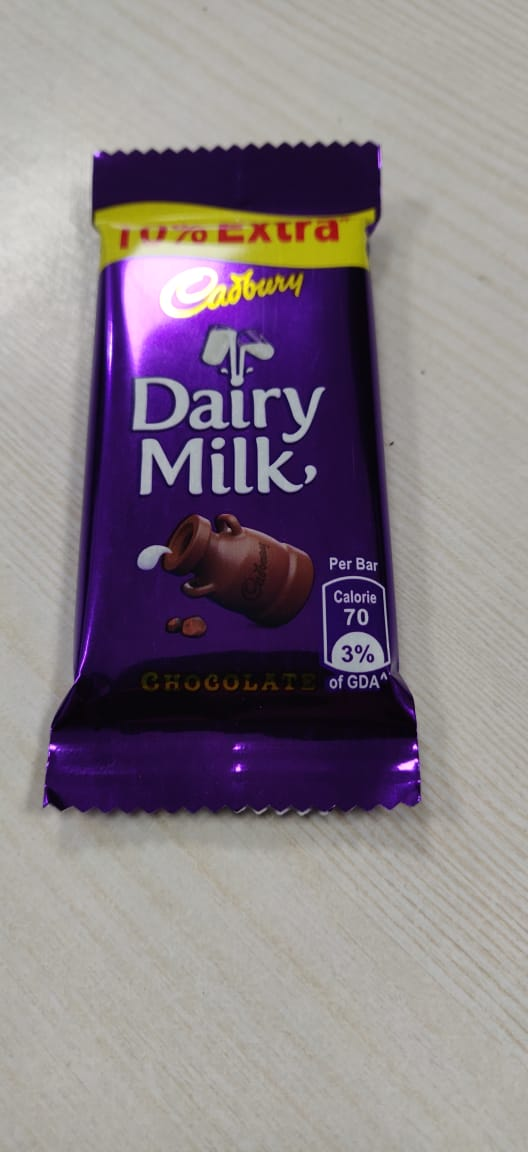dairy milk: (40, 121, 443, 830)
